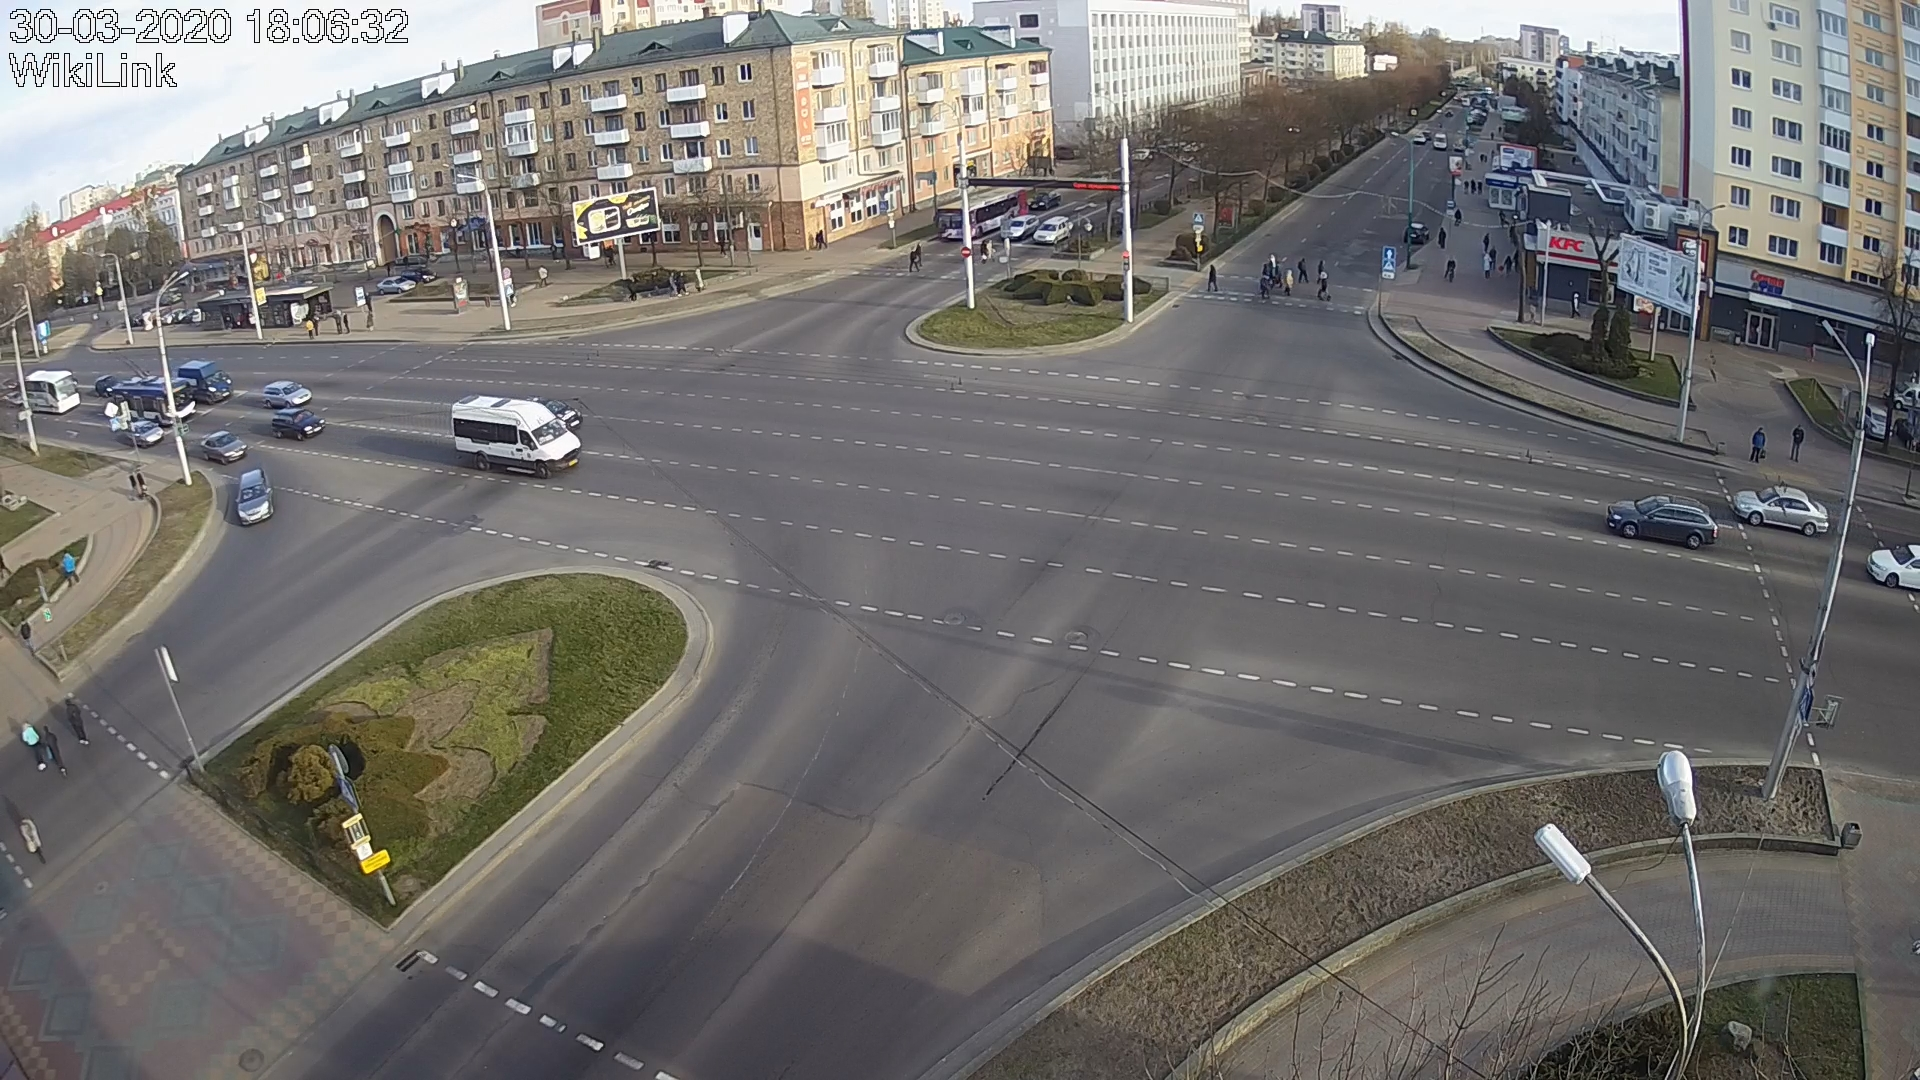bus: (938, 186, 1026, 240), (112, 376, 196, 426)
car: (451, 394, 582, 479), (1606, 495, 1720, 551), (1733, 485, 1829, 538), (178, 360, 233, 405), (235, 467, 276, 527), (272, 407, 326, 442), (200, 430, 248, 465), (262, 380, 313, 410), (1033, 216, 1072, 244), (127, 419, 164, 447), (1007, 214, 1040, 239)
